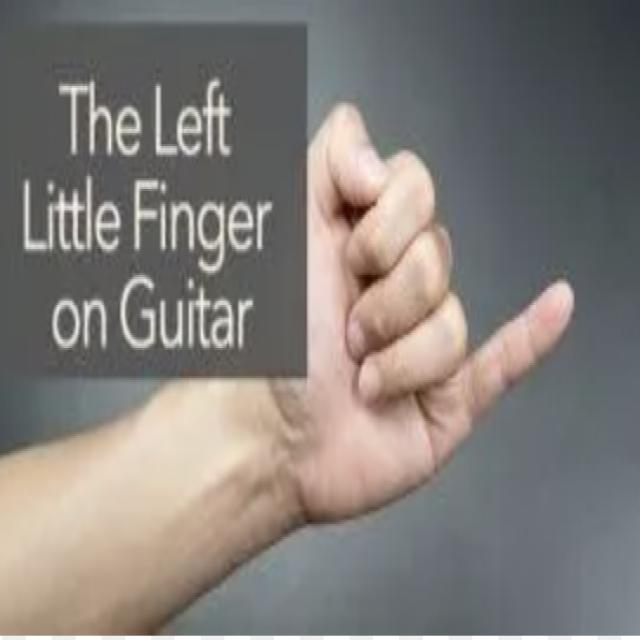pinky: (453, 268, 582, 439)
